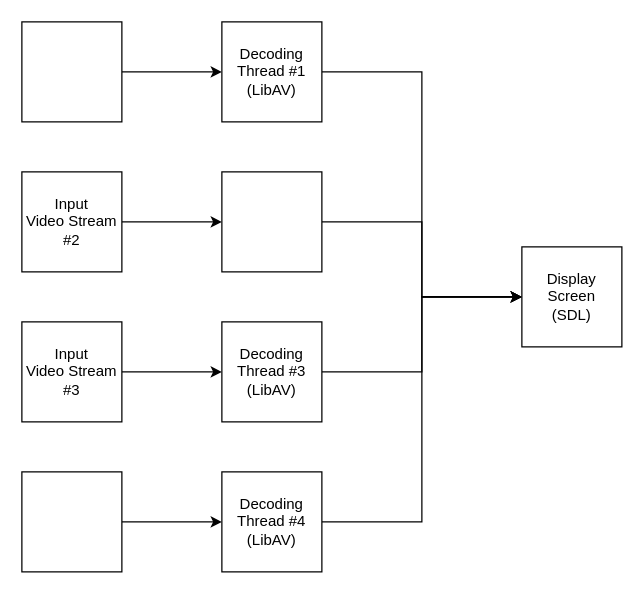
The diagram is 644 pixels wide and 594 high, and some of its shapes have lost their labels. The centre of each missing label's shape, as x and y in pixels:
"Decoding Thread #2 (LibAV)" goes at pixel 271 221.
"Input Video Stream #1" goes at pixel 71 71.
"Input Video Stream #4" goes at pixel 71 521.
